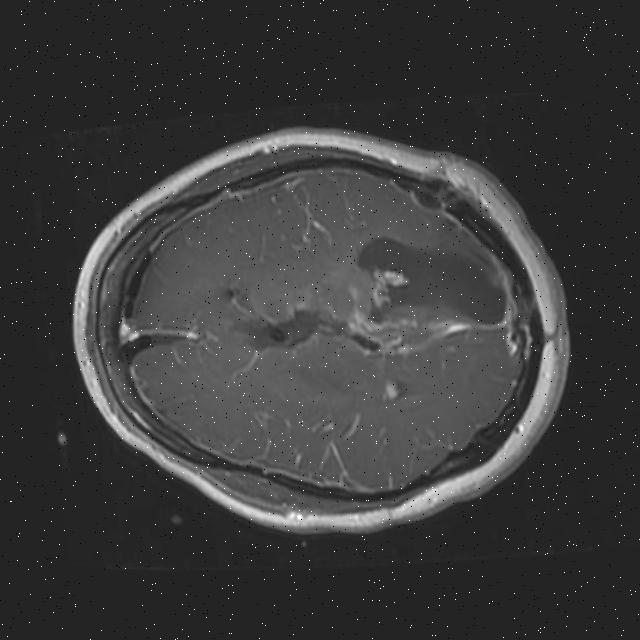Glioma: (326, 257, 419, 344)
